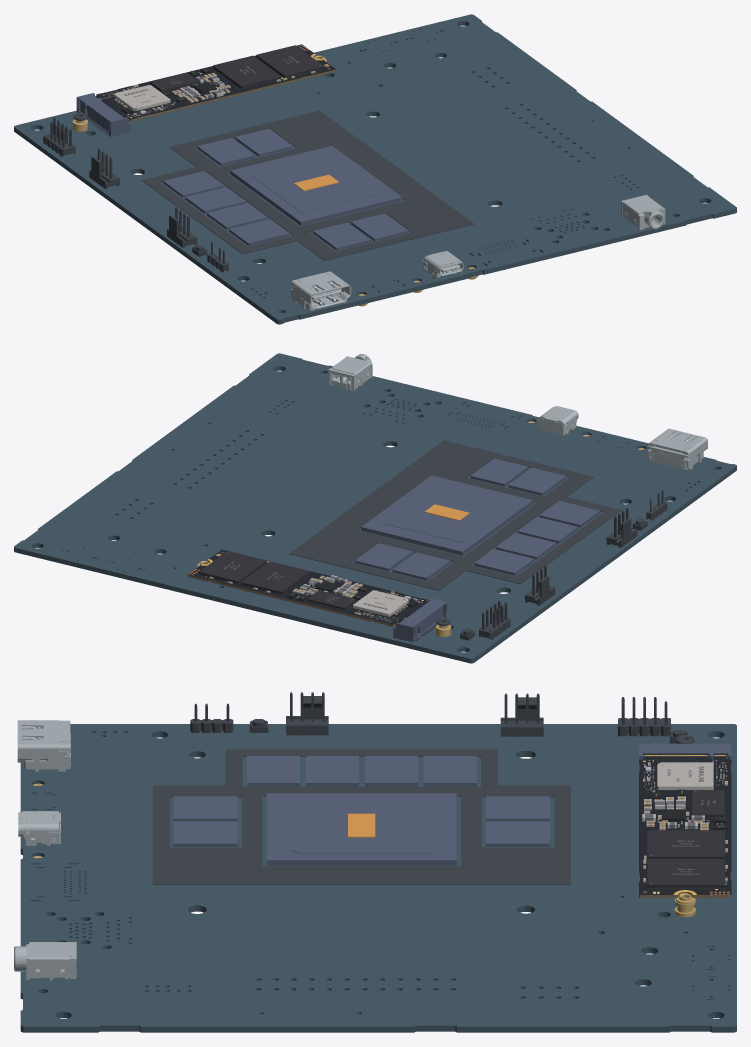
Rendered from power-cycle.glb.
3 views of the same model, one above another, from view 1: azimuth 30°, elevation 25°; view 2: azimuth 150°, elevation 25°; view 3: azimuth 270°, elevation 25° (orthographic). The views are drawn at different scales.
Parts seen in each view (by area): view 1: fw_cad_board, fw_cad_packages, fw_cad_86, m2_mask_top, fw_cad_08, fw_cad_socket, U_N1_body, U_N2_body, fw_cad_11, U_CTRL_body, fw_cad_09, fw_cad_60 (+4 smaller); view 2: fw_cad_board, fw_cad_packages, fw_cad_86, m2_mask_top, fw_cad_08, U_N1_body, fw_cad_socket, U_N2_body, fw_cad_11, U_CTRL_body, fw_cad_09, fw_cad_47 (+4 smaller); view 3: fw_cad_board, fw_cad_packages, fw_cad_86, m2_mask_top, fw_cad_08, U_N2_body, U_N1_body, fw_cad_11, U_CTRL_body, fw_cad_60, fw_cad_59, fw_cad_09 (+5 smaller).
Boxes of the visible parts, x1,y1,x2,y2 form: fw_cad_board: (14, 14, 736, 324); fw_cad_packages: (163, 129, 408, 250); fw_cad_86: (142, 110, 474, 260); m2_mask_top: (95, 44, 335, 119); fw_cad_08: (291, 271, 351, 310); fw_cad_socket: (76, 93, 130, 137); U_N1_body: (213, 55, 281, 88); U_N2_body: (256, 45, 323, 77); fw_cad_11: (621, 195, 665, 230); U_CTRL_body: (114, 85, 170, 110); fw_cad_09: (423, 251, 463, 279); fw_cad_60: (89, 148, 119, 188); fw_cad_board: (14, 353, 736, 663); fw_cad_packages: (354, 458, 600, 580); fw_cad_86: (289, 440, 621, 590); m2_mask_top: (188, 549, 428, 624); fw_cad_08: (648, 428, 707, 469); U_N1_body: (241, 561, 310, 594); fw_cad_socket: (393, 598, 446, 642); U_N2_body: (199, 551, 266, 583); fw_cad_11: (328, 354, 372, 391); U_CTRL_body: (353, 590, 408, 616); fw_cad_09: (537, 406, 578, 435); fw_cad_47: (479, 600, 510, 639); fw_cad_board: (20, 724, 736, 1032); fw_cad_packages: (173, 756, 549, 865); fw_cad_86: (152, 749, 570, 884); m2_mask_top: (639, 756, 731, 894); fw_cad_08: (17, 720, 70, 771); U_N2_body: (647, 859, 724, 888); U_N1_body: (647, 830, 724, 858); fw_cad_11: (14, 942, 76, 980); U_CTRL_body: (657, 762, 713, 789); fw_cad_60: (500, 693, 543, 736); fw_cad_59: (286, 692, 328, 735); fw_cad_09: (18, 811, 60, 845).
Bounding box in the file's own units: 0.17 × 0.0137 × 0.1716.
